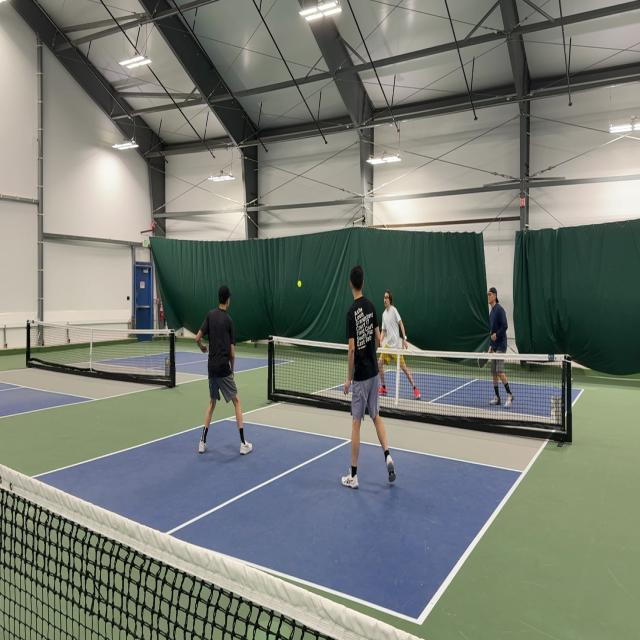ball: (297, 280, 302, 288)
